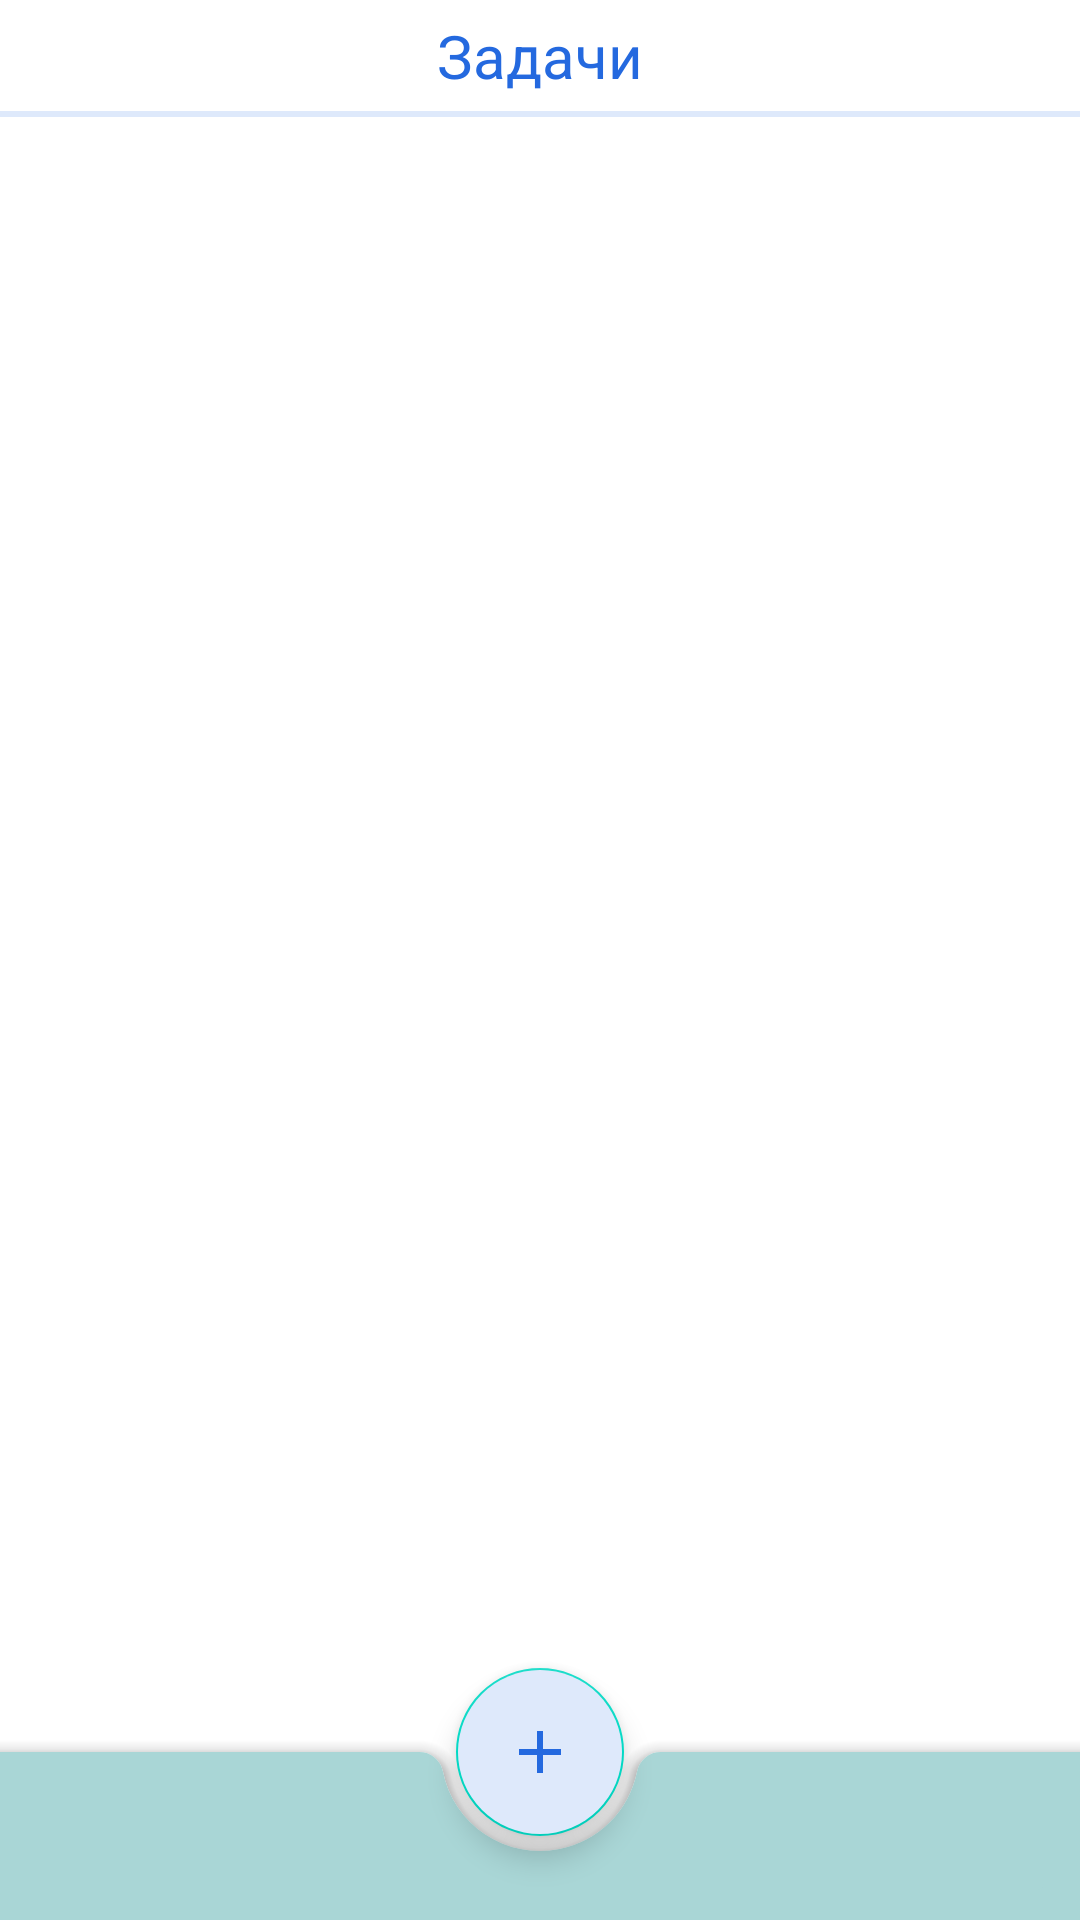

Screen size 1080w x 1920h. Icon name, then its center in pixels as point (x, y):
add: point (540, 1752)
